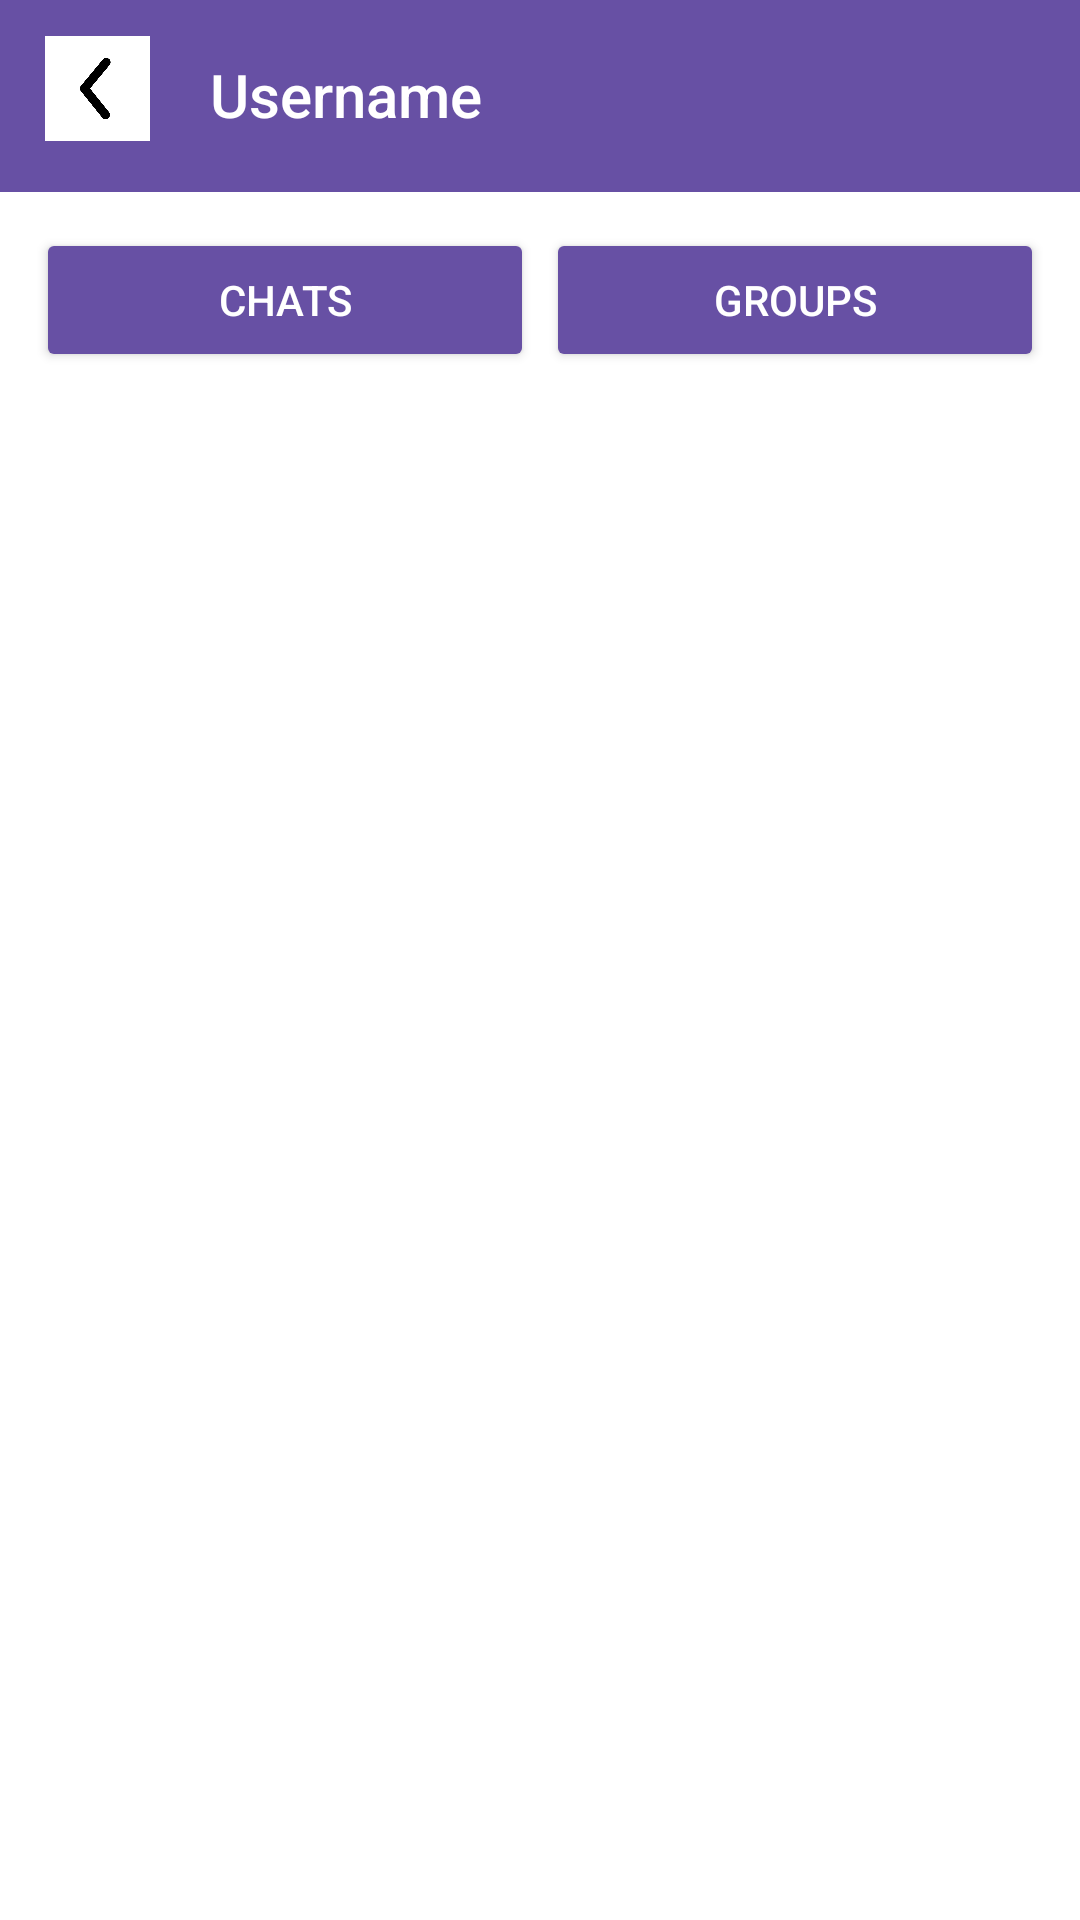

Icons on this 1080 x 1920 Android screen, each with the point to tap as [x,y]:
backarrow: [97,88]
